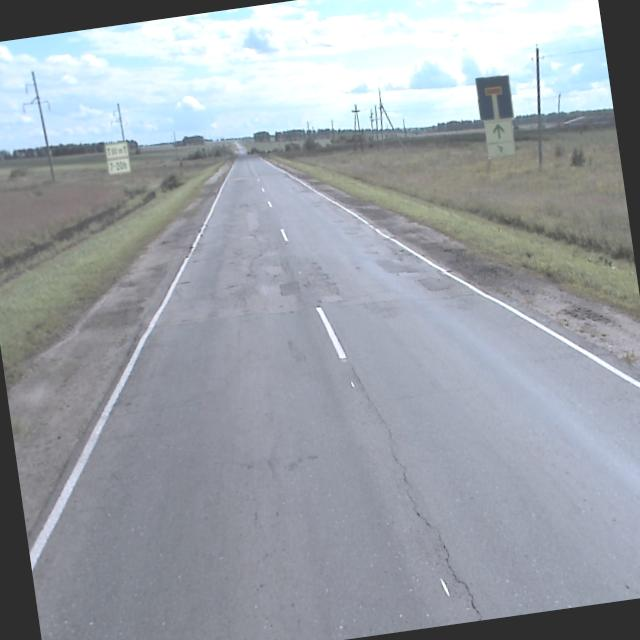road: (27, 156, 640, 640)
